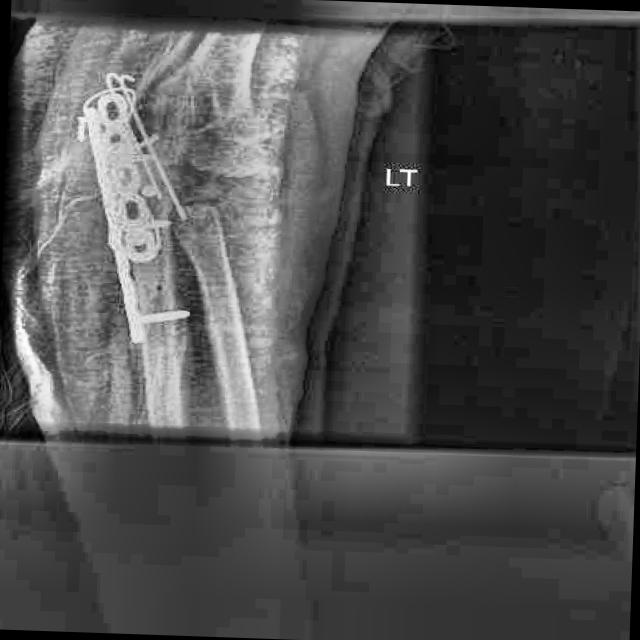elbow positive: (128, 191, 184, 311)
